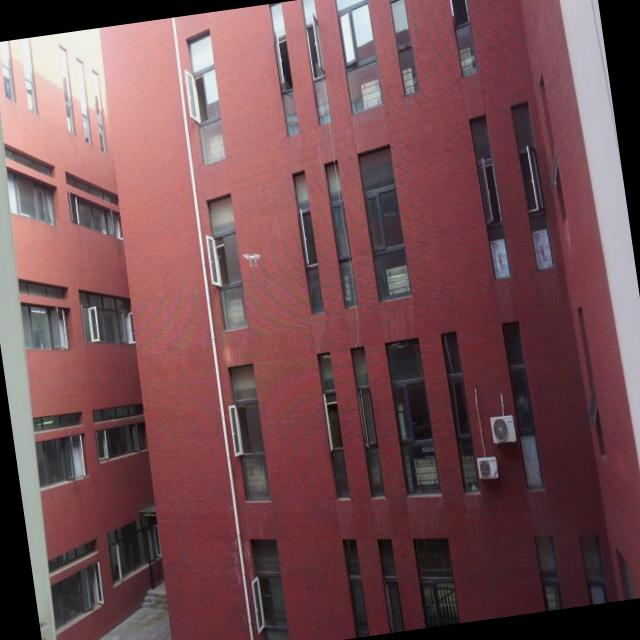drone: (242, 248, 264, 270)
